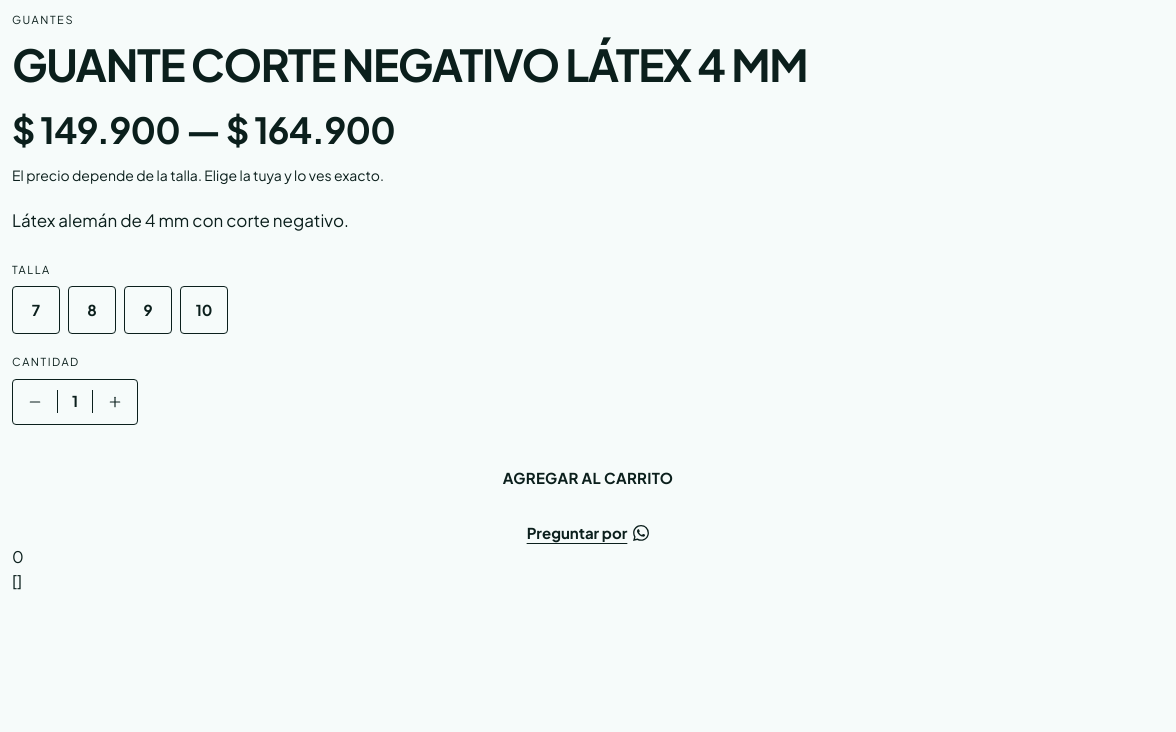
Test case: ProductPurchase › sin talla elegida el CTA no agrega nada y avisa
Click the button "Agregar al carrito" at (588, 479), box [12,453,1164,505]
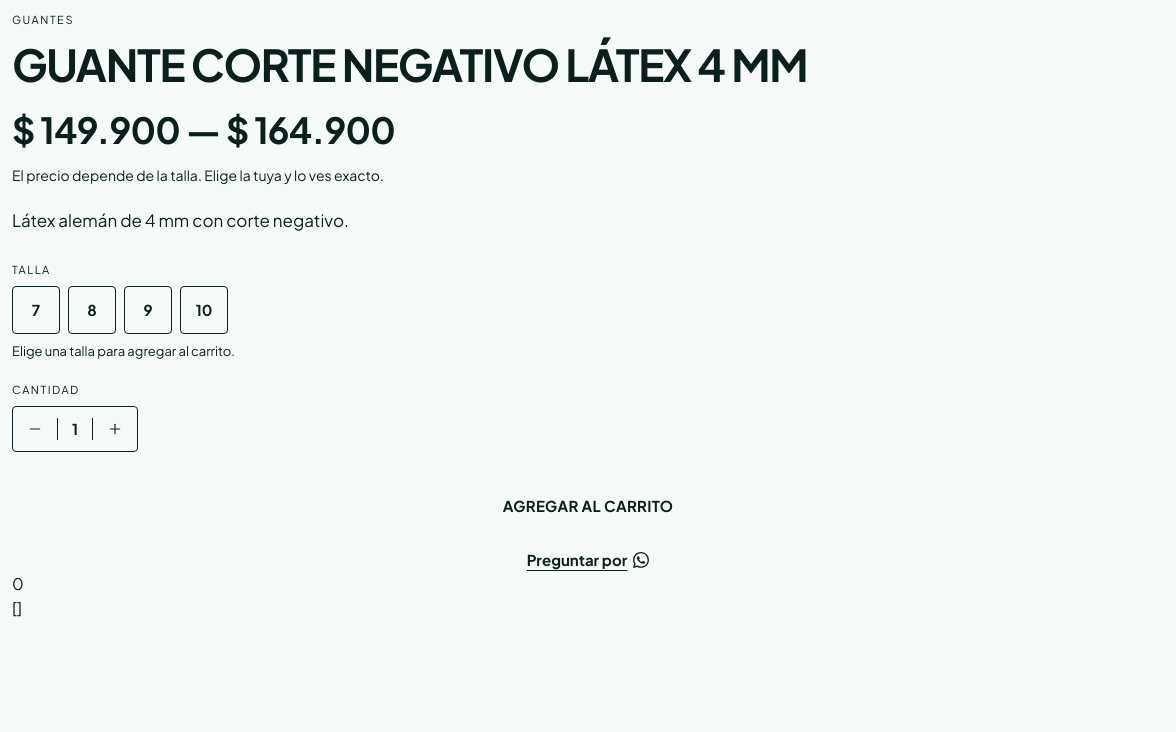
Expected: the text with test id "unidades" reads "0", [12,573,24,594]
Expected: the text "Elige una talla para agregar al carrito." is shown, [12,343,235,359]
